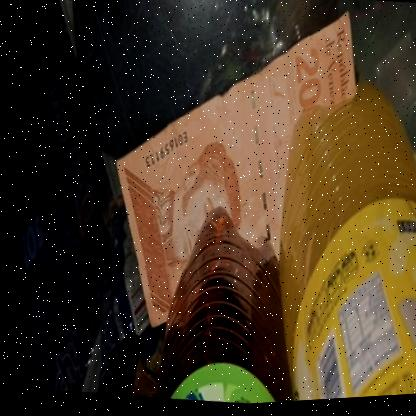vef_front: (79, 0, 382, 355)
